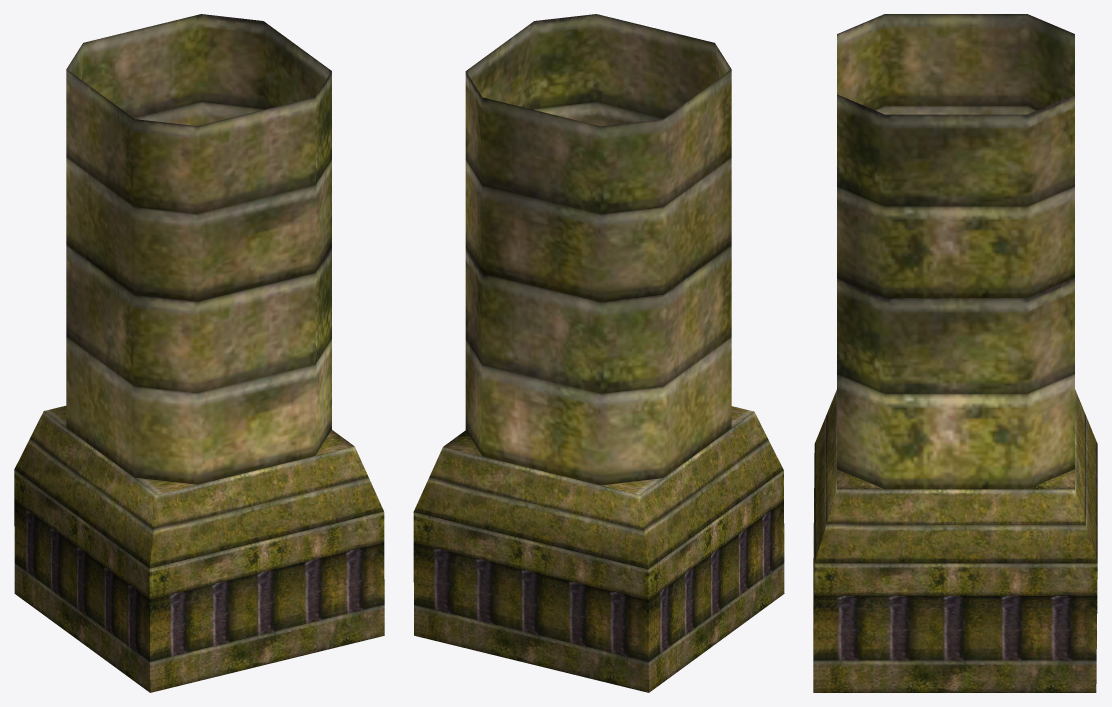
File: OVERHILL_A_01_OBJECT219.fbx
3 renders of one model, left to right at view 1: azimuth 30°, elevation 25°; view 2: azimuth 150°, elevation 25°; view 3: azimuth 270°, elevation 25°, orthographic. The views are drawn at different scales.
Visible parts, largest first — view 1: OVERHILL_A_01_OBJECT219; view 2: OVERHILL_A_01_OBJECT219; view 3: OVERHILL_A_01_OBJECT219.
Boxes of the visible parts, left/top/right/bottom form: OVERHILL_A_01_OBJECT219: left=14, top=14, right=384, bottom=692; OVERHILL_A_01_OBJECT219: left=413, top=14, right=784, bottom=692; OVERHILL_A_01_OBJECT219: left=813, top=14, right=1097, bottom=692.
Size of the model in its own units: 17889 by 39672 by 17967.
4 materials, 4 textured.
